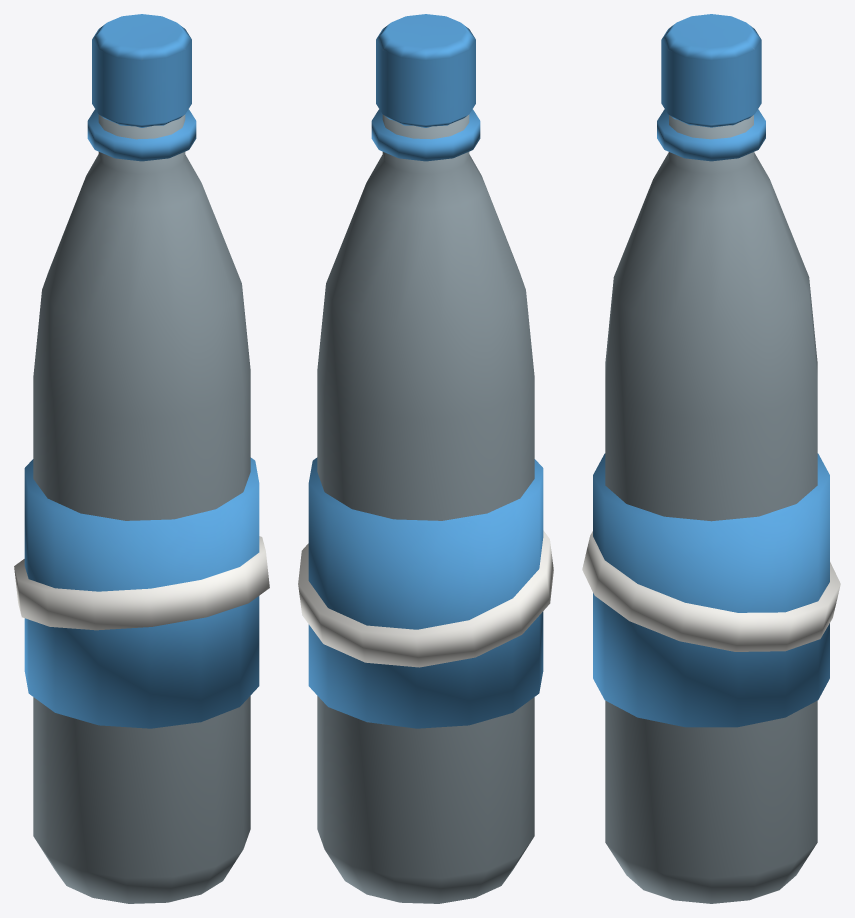
Rendered from Vendor_Bottle.fbx.
The picture shows the model from 3 angles, left to right: view 1: azimuth 30°, elevation 25°; view 2: azimuth 150°, elevation 25°; view 3: azimuth 270°, elevation 25°; orthographic projection.
Parts seen in each view (by area): view 1: Vendor_Bottle; view 2: Vendor_Bottle; view 3: Vendor_Bottle.
Boxes of the visible parts, x1,y1,x2,y2 form: Vendor_Bottle: [14, 14, 269, 903]; Vendor_Bottle: [298, 14, 553, 903]; Vendor_Bottle: [582, 14, 840, 903].
Bounding box in the file's own units: 0.078 × 0.288 × 0.0807.
Materials: 1 (1 with a texture image).
